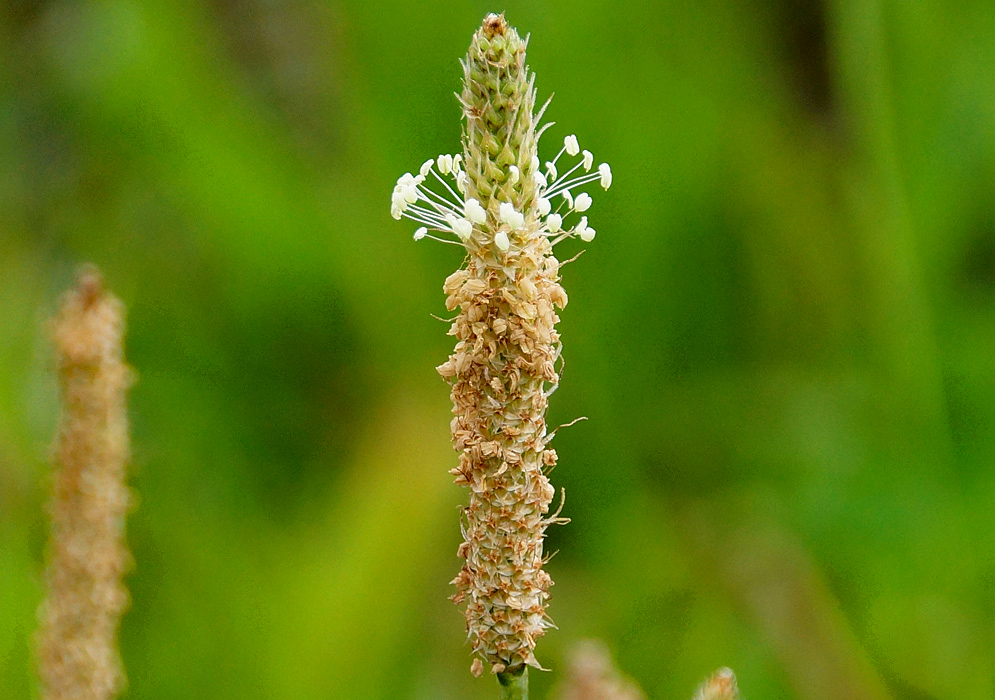buckhorn plantain: (423, 5, 591, 668)
